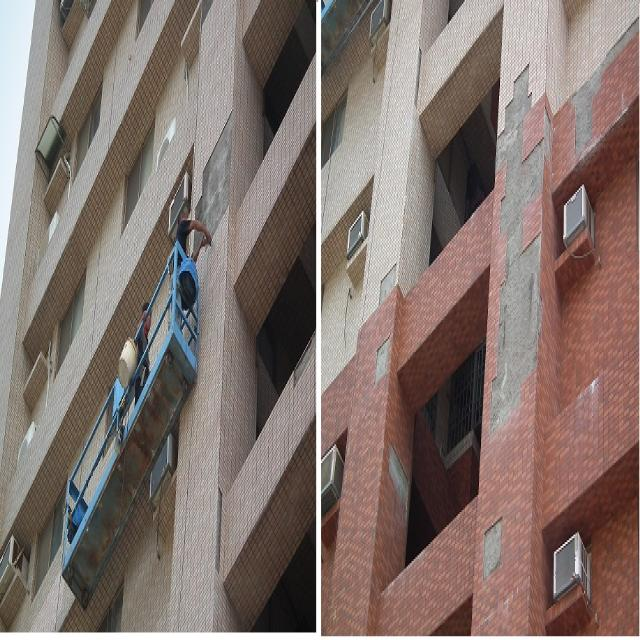tile: (490, 64, 550, 432), (572, 17, 639, 158), (193, 107, 233, 264), (388, 443, 408, 511), (483, 515, 503, 579), (215, 484, 224, 576), (375, 335, 391, 385), (379, 264, 397, 306), (414, 43, 423, 109)
